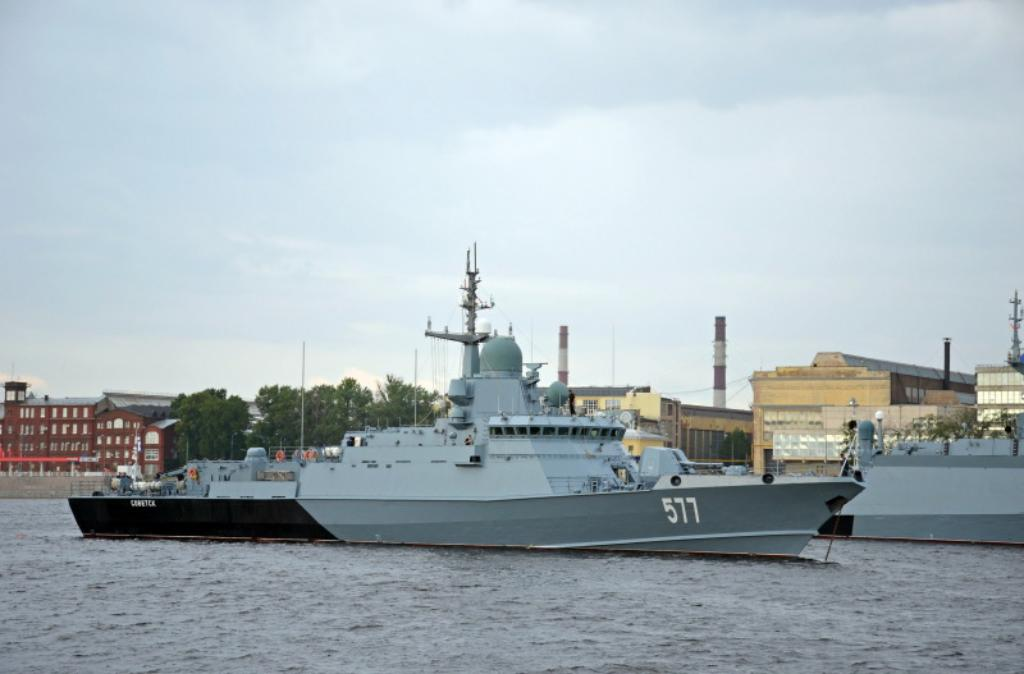Warship: (64, 233, 868, 560), (810, 290, 1024, 562)
